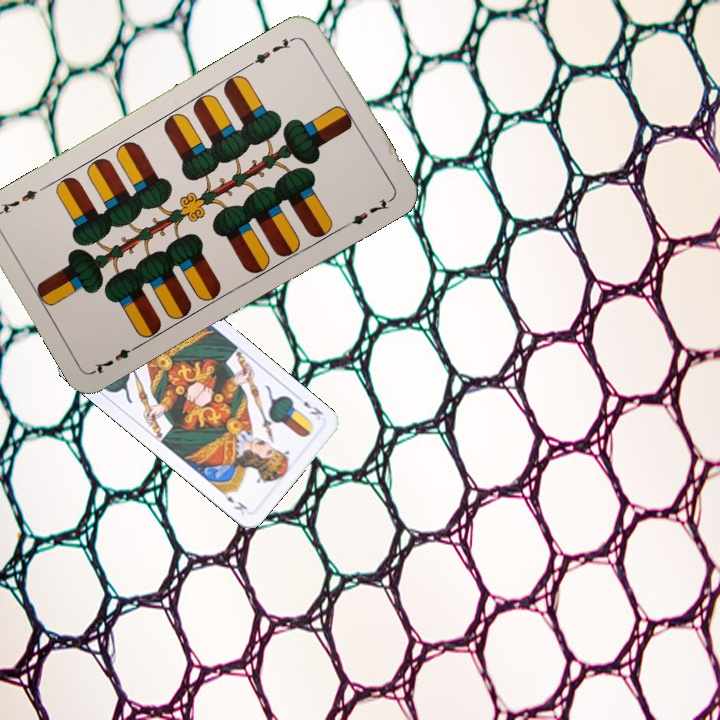E7: (245, 32, 299, 69), (90, 339, 144, 376)
EK: (299, 397, 326, 418)
